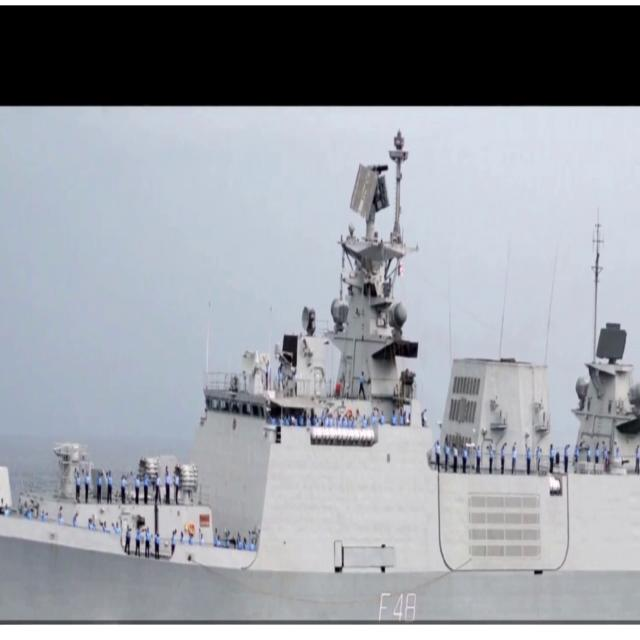OCR: (368, 584, 421, 621)
